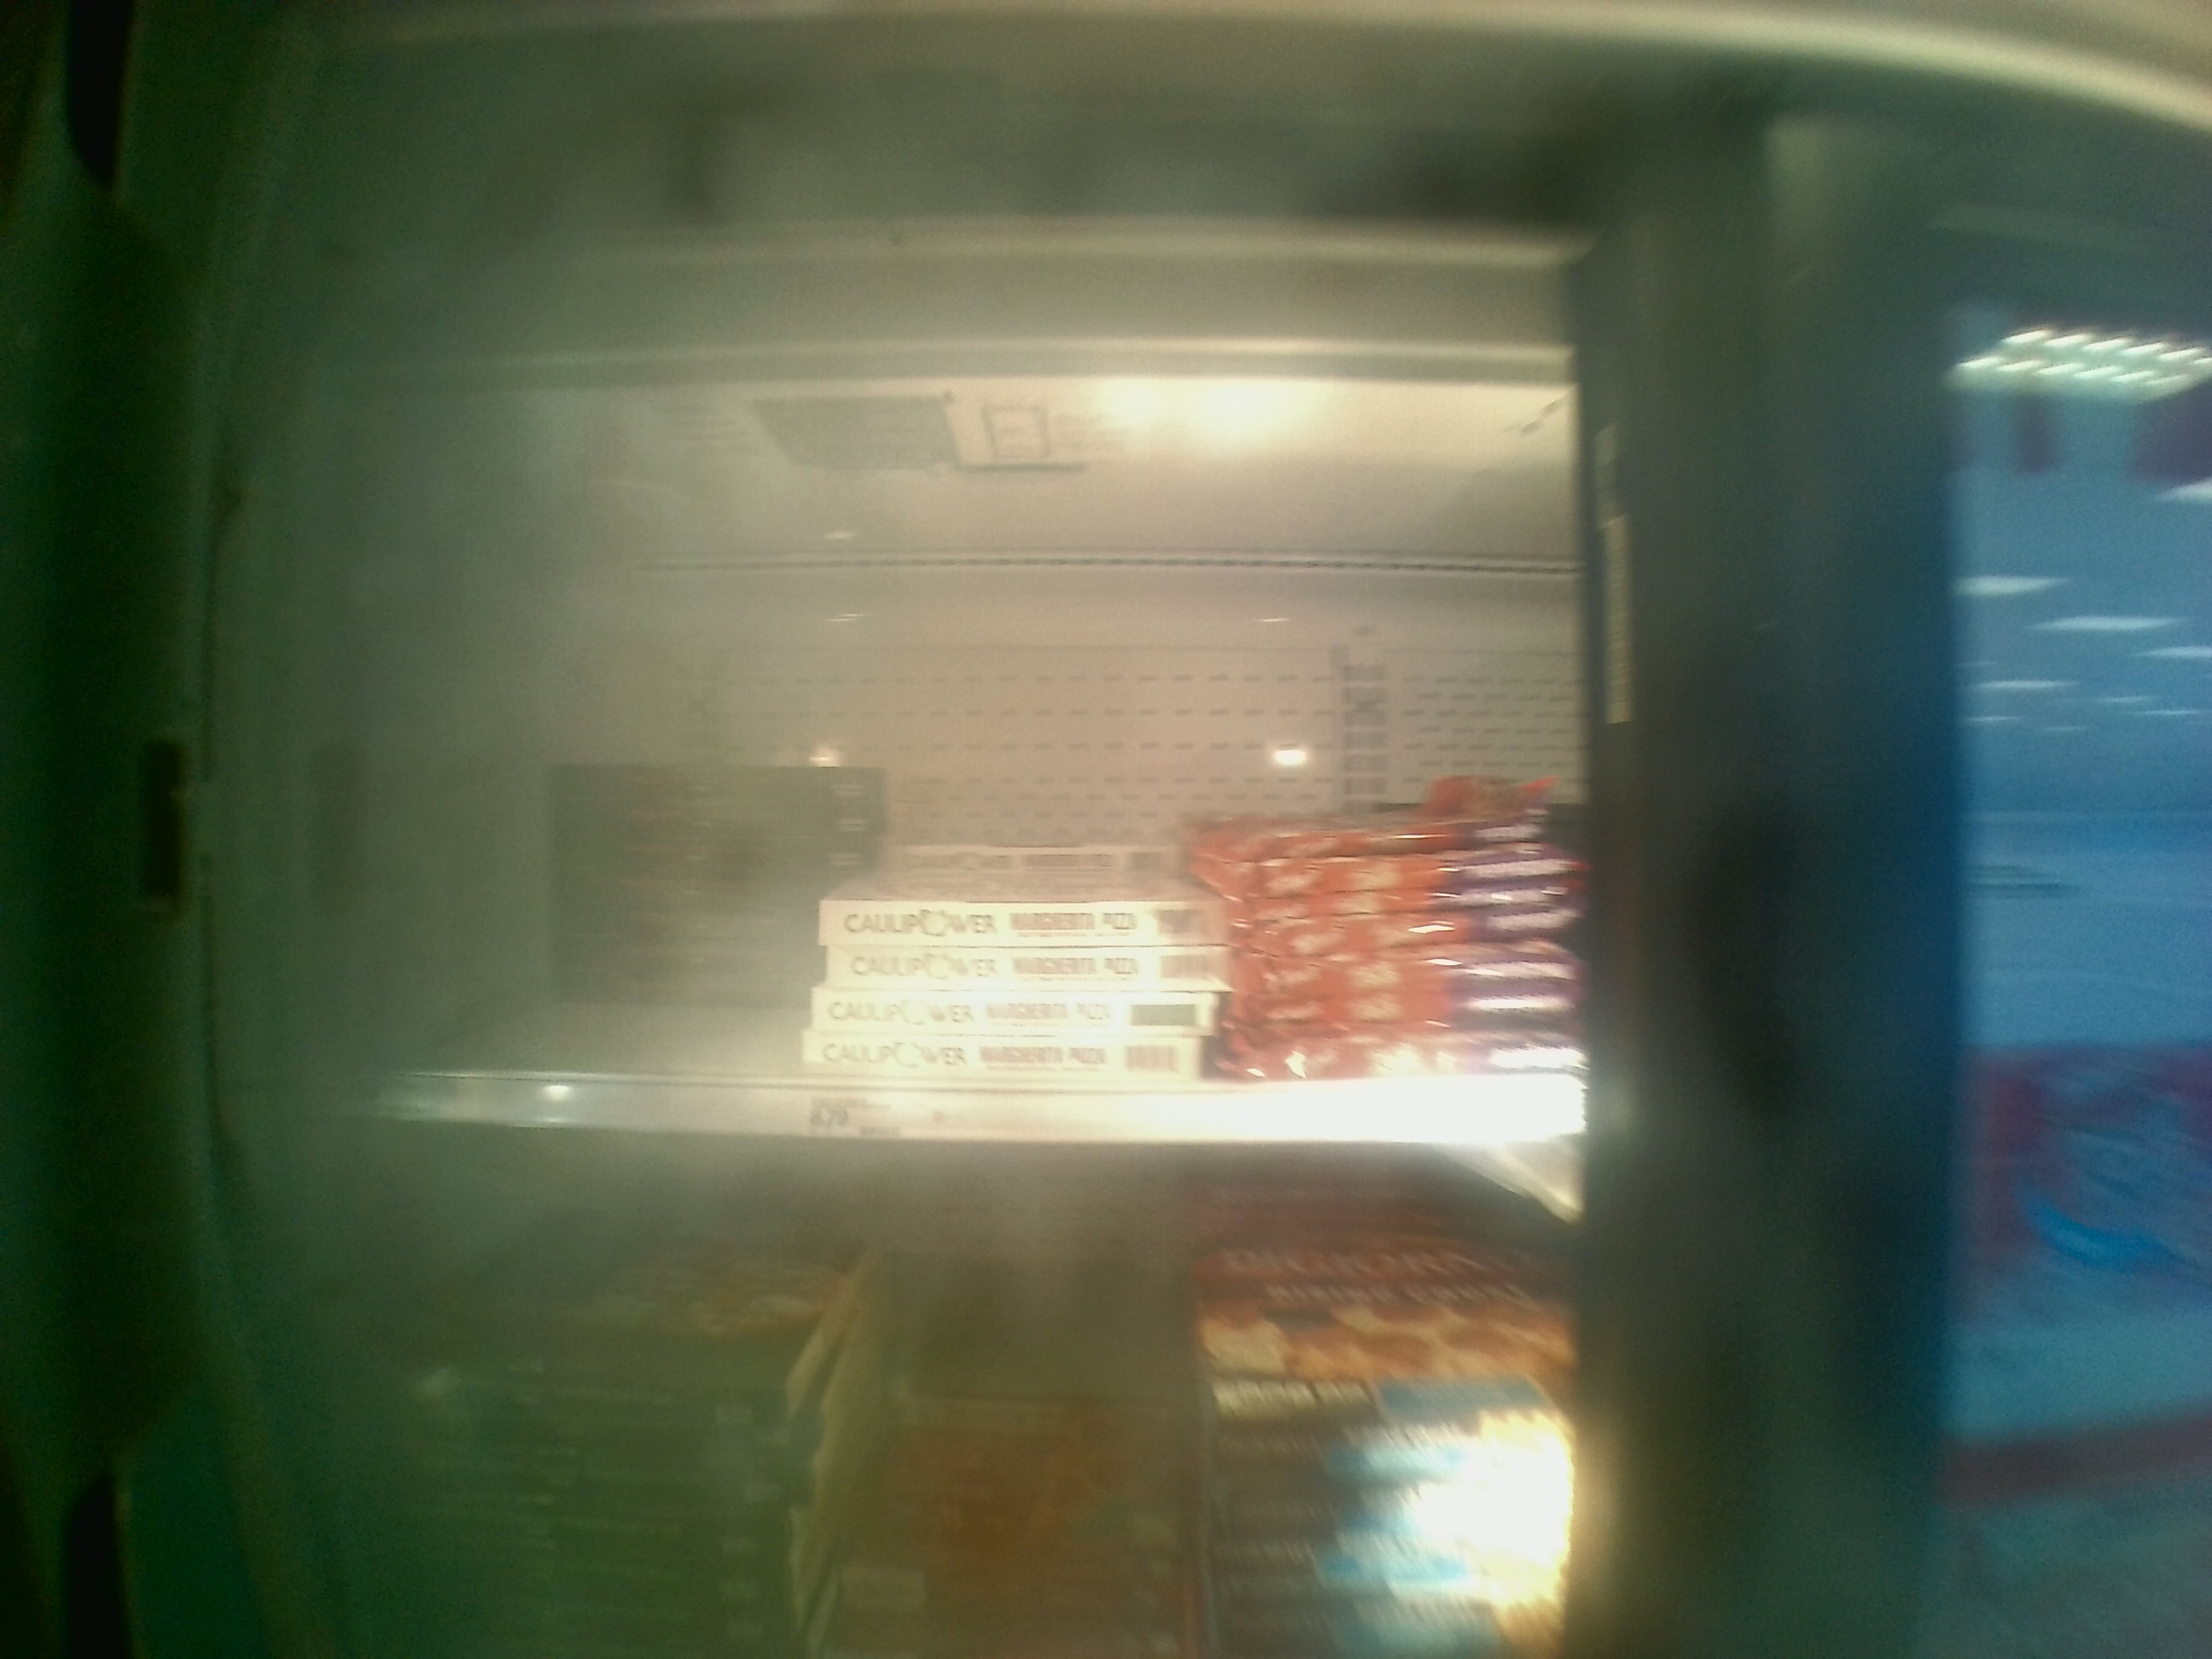pizza: (437, 1161, 822, 1364), (1214, 1180, 1561, 1380), (1228, 1406, 1569, 1476), (1216, 1476, 1578, 1535), (341, 1511, 763, 1558), (819, 1040, 1191, 1089), (357, 1615, 798, 1654), (1211, 1542, 1564, 1588), (822, 908, 1216, 948), (340, 1377, 770, 1413), (819, 999, 1209, 1039), (536, 762, 892, 803), (827, 955, 1216, 990), (1230, 1607, 1564, 1647), (376, 1481, 784, 1507), (540, 849, 864, 880), (334, 1575, 779, 1598), (350, 1431, 773, 1452), (561, 974, 803, 1004), (554, 812, 883, 829), (888, 843, 1150, 864), (561, 934, 798, 955)
